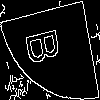B: (25, 25, 69, 67)
